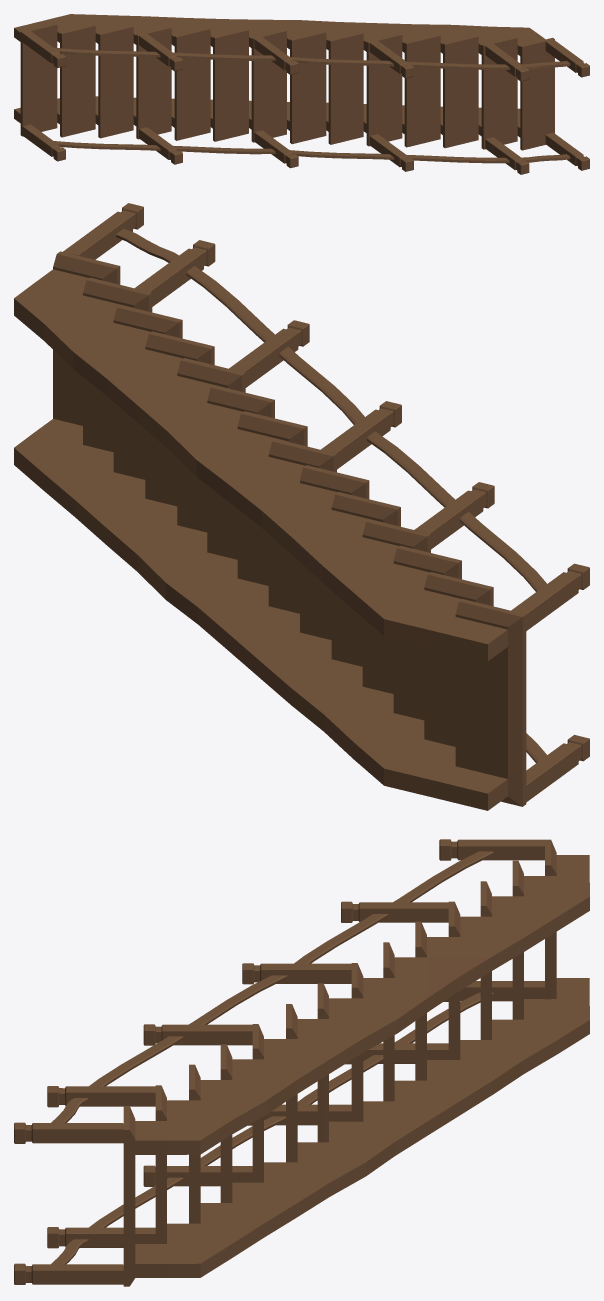
Rendered from Stair_01.fbx.
3 renders of one model, top to bottom at view 1: azimuth 30°, elevation 25°; view 2: azimuth 150°, elevation 25°; view 3: azimuth 270°, elevation 25°, orthographic. The views are drawn at different scales.
Visible parts, largest first — view 1: escalier vide; view 2: escalier vide; view 3: escalier vide.
Boxes of the visible parts, x1,y1,x2,y2 form: escalier vide: [14, 14, 589, 174]; escalier vide: [14, 203, 589, 810]; escalier vide: [14, 839, 589, 1286].
Bounding box in the file's own units: 383 × 96.51 × 321.
